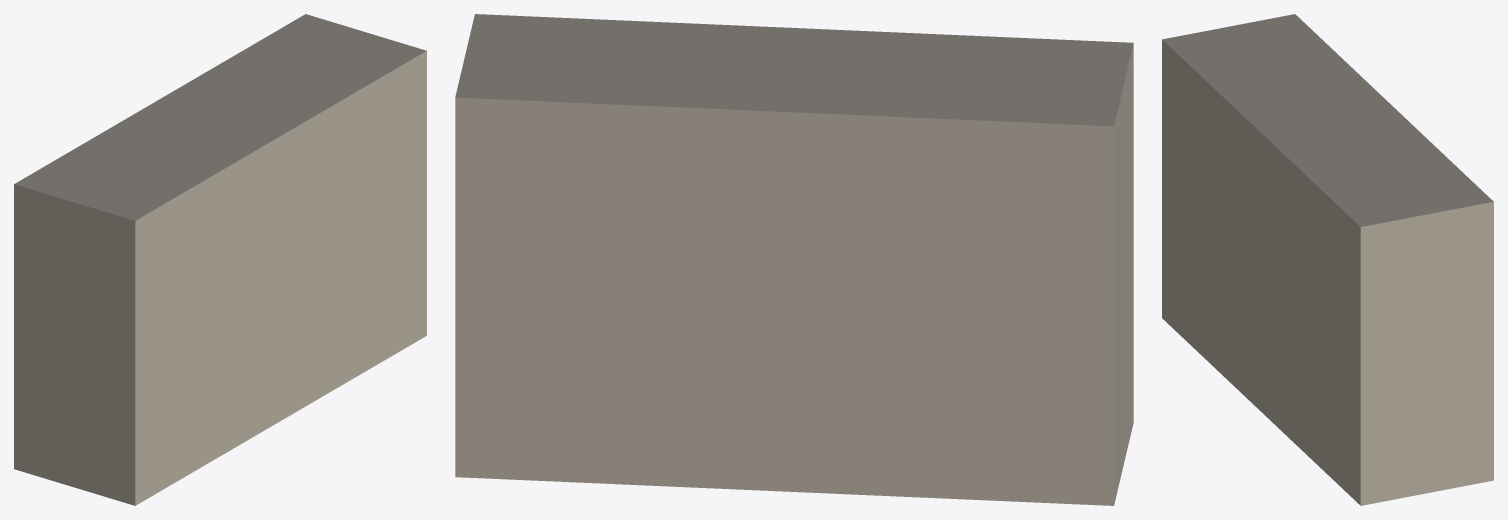
The picture shows the model from 3 angles, left to right: view 1: azimuth 30°, elevation 25°; view 2: azimuth 150°, elevation 25°; view 3: azimuth 270°, elevation 25°; orthographic projection. The views are drawn at different scales.
Parts seen in each view (by area): view 1: HP-w1435300035; view 2: HP-w1435300035; view 3: HP-w1435300035.
Part boxes in pixels (box(x1,y1,x2,y2)): HP-w1435300035: box(14, 14, 426, 505); HP-w1435300035: box(455, 14, 1133, 505); HP-w1435300035: box(1162, 14, 1493, 505).
Size of the model in its own units: 29.5 by 18 by 19.4.
